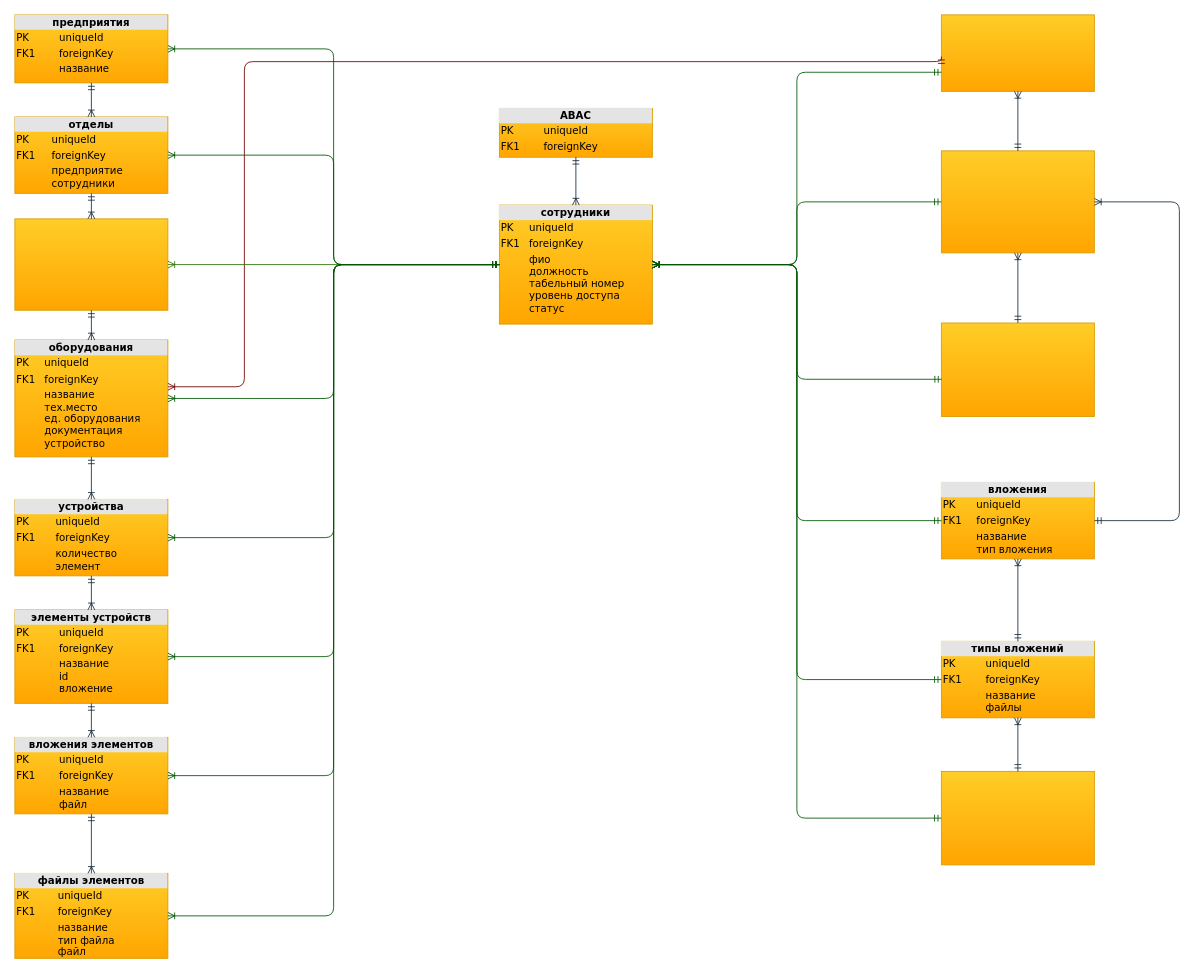
Some shapes in this 1202 by 973 pixel diagram are drawn without their labels. The centre of each missing label's shape, as x and y in pixels:
документация PK uniqueId FK1 foreignKey название тип: [1017,52]
тех. место PK uniqueId FK1 foreignKey название идент.номер(id) отделы: [91,264]
типы документов PK uniqueId FK1 foreignKey название форма файл вложение: [1017,201]
файлы вложений PK uniqueId FK1 foreignKey название тип файла файл: [1017,818]
файлы документов PK uniqueId FK1 foreignKey название тип файла файл: [1017,369]
